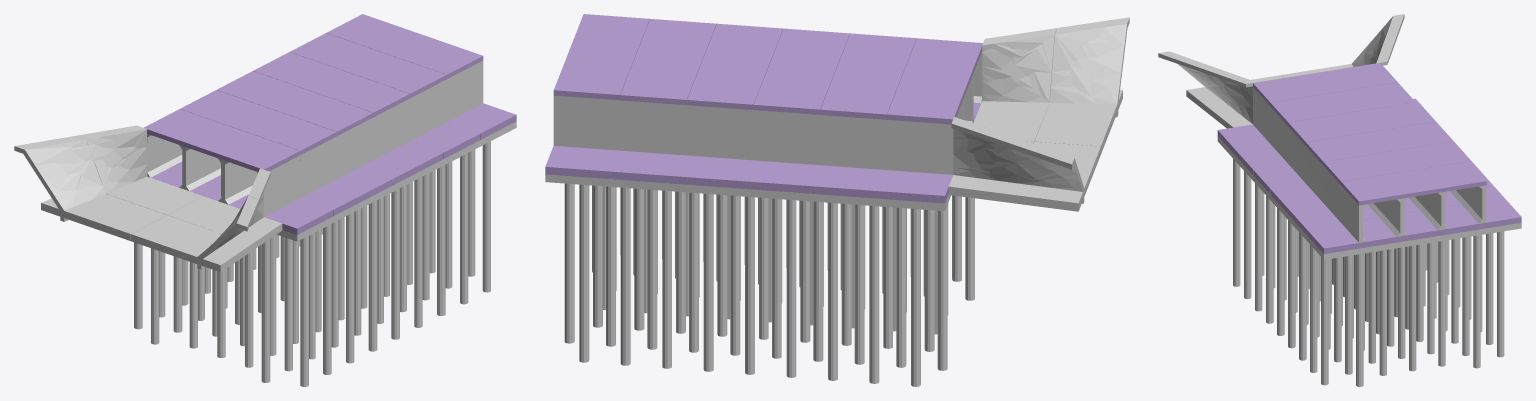
Rendered from 500125-CSSP001-780-XX-MD-ST-006105.glb.
The picture shows the model from 3 angles, left to right: view 1: azimuth 30°, elevation 25°; view 2: azimuth 150°, elevation 25°; view 3: azimuth 270°, elevation 25°; orthographic projection. The views are drawn at different scales.
Parts seen in each view (by area): view 1: 500125-CSSP001-780-XX-MD-ST-006105#OTR001, 500125-CSSP001-780-XX-MD-ST-006105#BOX001; view 2: 500125-CSSP001-780-XX-MD-ST-006105#OTR001, 500125-CSSP001-780-XX-MD-ST-006105#BOX001; view 3: 500125-CSSP001-780-XX-MD-ST-006105#OTR001, 500125-CSSP001-780-XX-MD-ST-006105#BOX001.
Part boxes in pixels (x1=…): 500125-CSSP001-780-XX-MD-ST-006105#OTR001: x1=14, y1=60, x2=516, y2=386; 500125-CSSP001-780-XX-MD-ST-006105#BOX001: x1=143, y1=14, x2=516, y2=234; 500125-CSSP001-780-XX-MD-ST-006105#OTR001: x1=545, y1=17, x2=1129, y2=386; 500125-CSSP001-780-XX-MD-ST-006105#BOX001: x1=545, y1=14, x2=982, y2=203; 500125-CSSP001-780-XX-MD-ST-006105#OTR001: x1=1158, y1=14, x2=1521, y2=386; 500125-CSSP001-780-XX-MD-ST-006105#BOX001: x1=1217, y1=63, x2=1521, y2=253.
Bounding box in the file's own units: 36.72 × 16.72 × 29.04.
